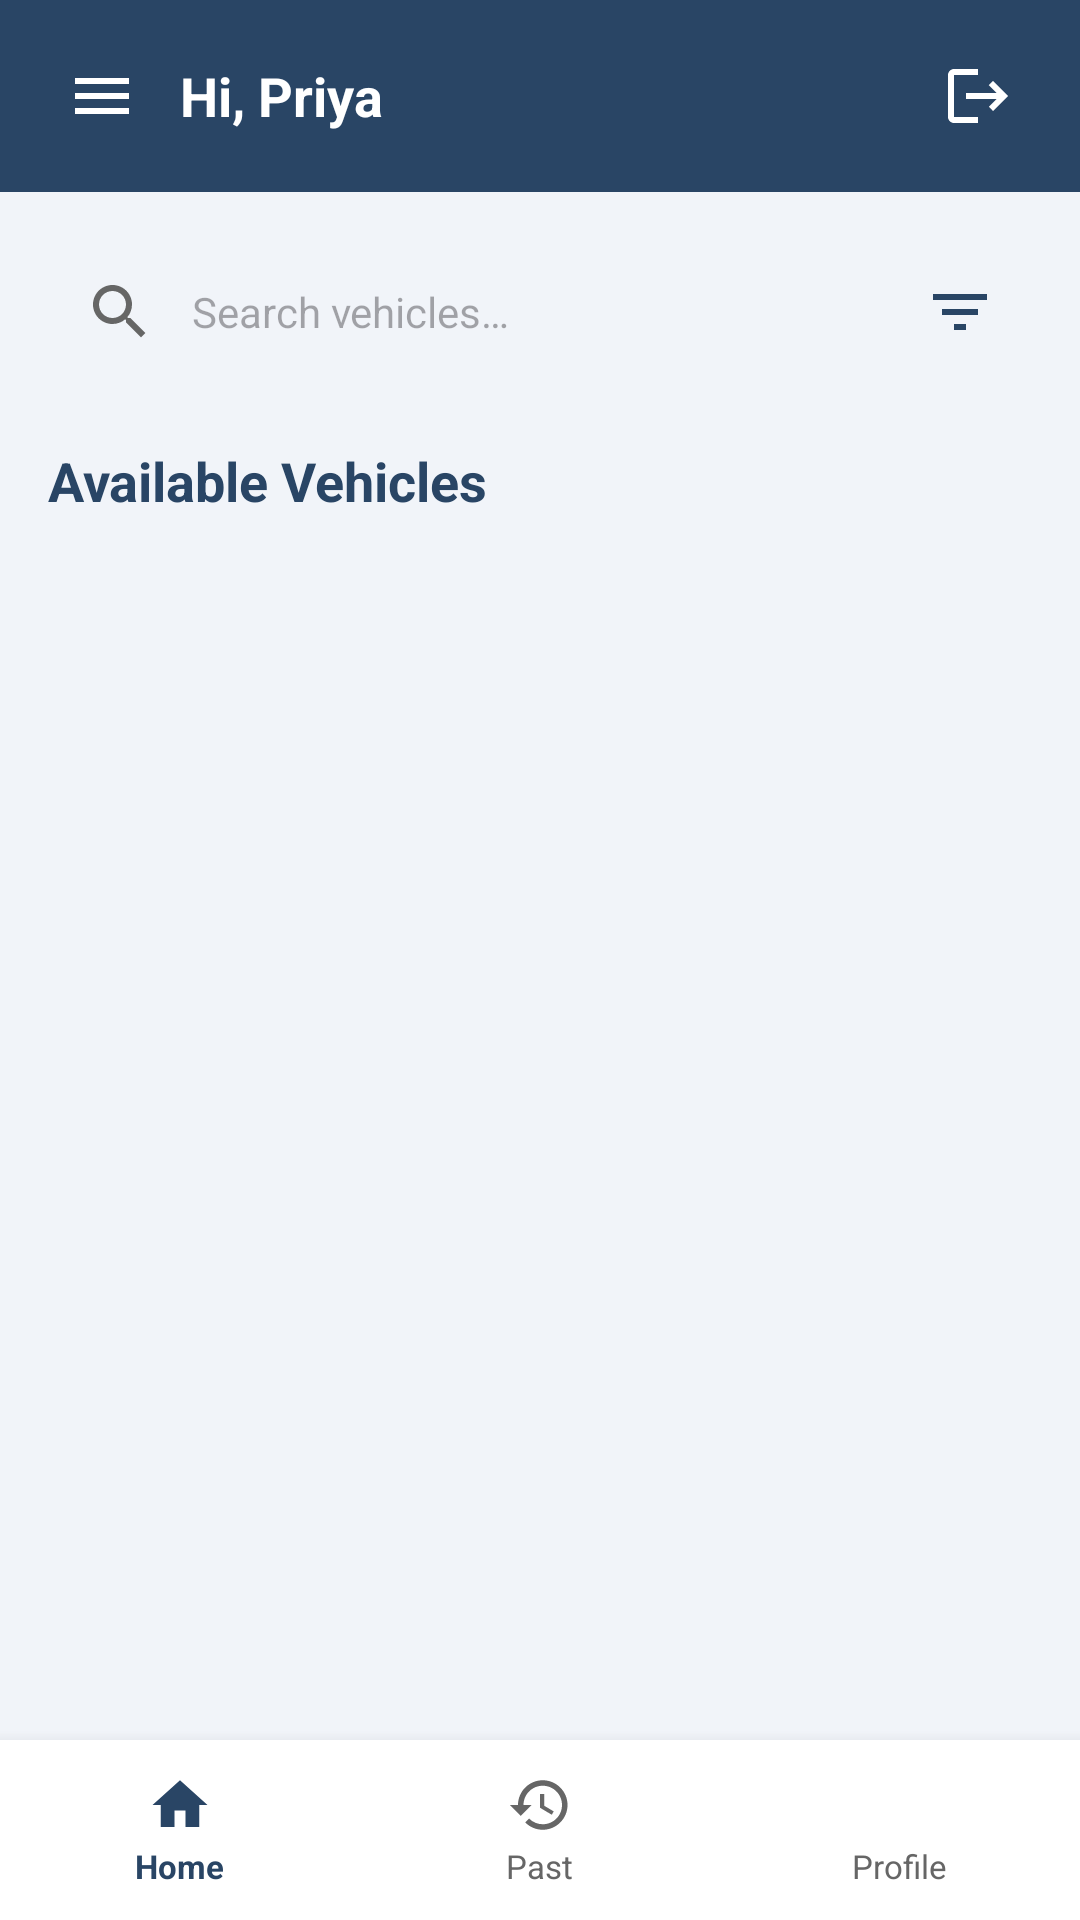

Point at icon controls on the screen. Image size 1080 x 1920, points as (x,y).
Filter Vehicles: (960,312)
Menu: (102,96)
